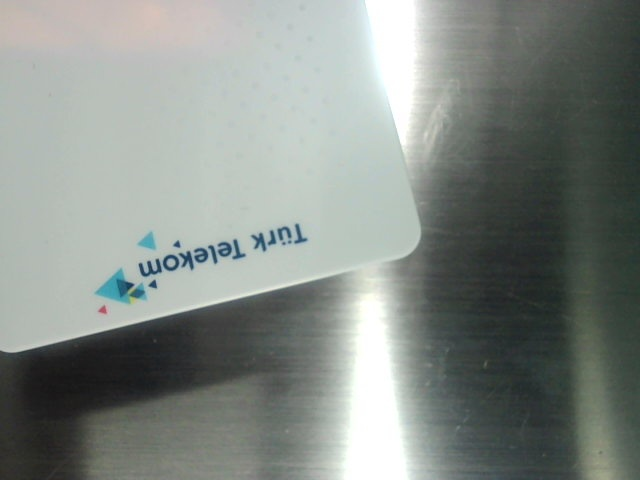AQ_TURKTelekom: (70, 224, 316, 313)
